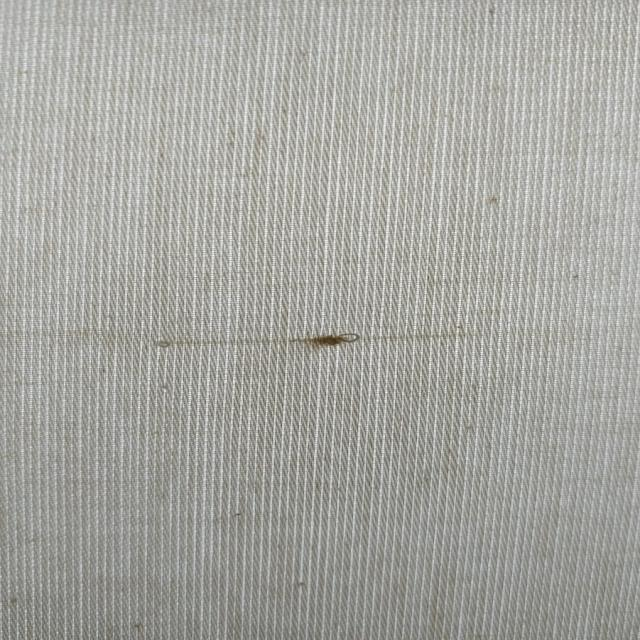stains: (87, 302, 484, 372)
